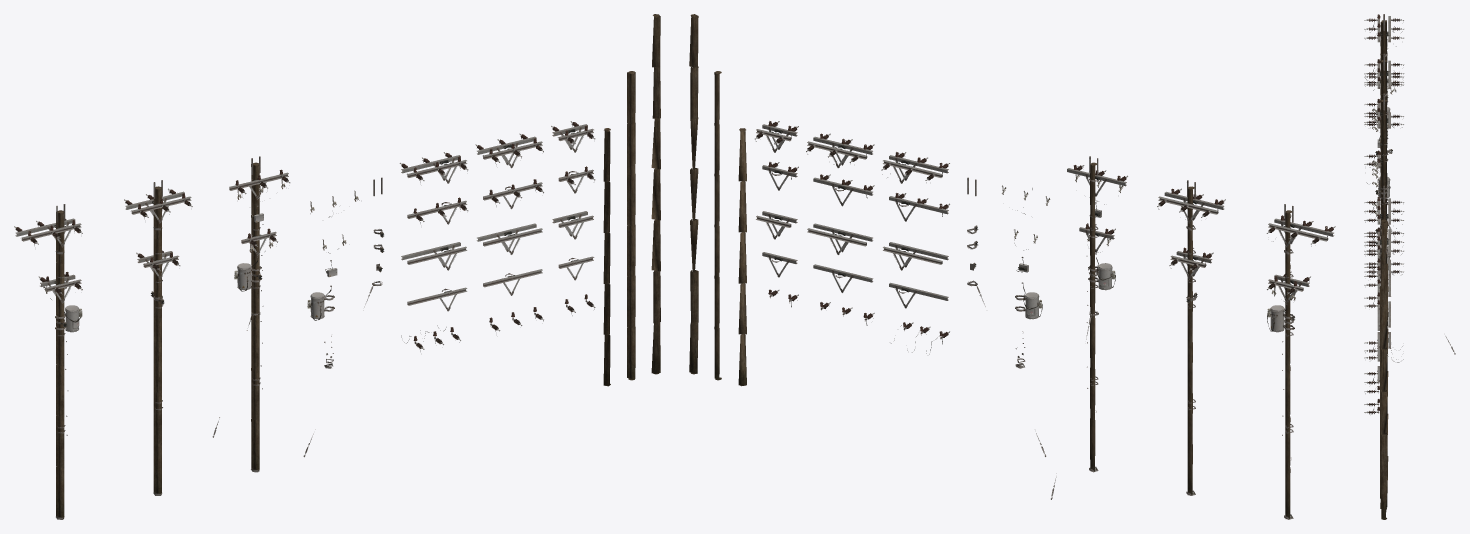
Rendered from modular_electricity_poles.glb.
3 renders of one model, left to right at view 1: azimuth 30°, elevation 25°; view 2: azimuth 150°, elevation 25°; view 3: azimuth 270°, elevation 25°, orthographic. The views are drawn at different scales.
Visible parts, largest first — view 1: pole_large, pole, preset_03_pole, preset_02_pole, preset_01_pole, pole_small, connection_large_01, connection_large_offset_01, preset_02_connection_large_01, preset_03_connection_large_offset_01, support_large_offset_01, support_large_01; view 2: pole_large, pole_small, pole, preset_01_pole, preset_02_pole, preset_03_pole, connection_large_01, connection_large_offset_01, preset_02_connection_large_01, preset_03_connection_large_offset_01, support_large_01, support_large_offset_01; view 3: pole_large, preset_01_pole, pole, preset_03_connection_large_offset_01, preset_02_connection_large_01, connection_large_offset_01, connection_large_01, pole_small, preset_03_pole, connection_small_01, preset_02_pole, preset_02_connection_small_01 (+8 smaller).
Boxes of the visible parts, x1,y1,x2,y2 form: pole_large: (651, 14, 660, 374); pole: (627, 71, 635, 380); preset_03_pole: (56, 210, 64, 519); preset_02_pole: (153, 186, 161, 495); preset_01_pole: (251, 162, 259, 471); pole_small: (603, 128, 610, 386); connection_large_01: (475, 133, 543, 168); connection_large_offset_01: (399, 152, 468, 183); preset_02_connection_large_01: (124, 188, 192, 223); preset_03_connection_large_offset_01: (14, 218, 82, 247); support_large_offset_01: (401, 242, 467, 270); support_large_01: (476, 223, 542, 254); pole_large: (689, 14, 698, 374); pole_small: (738, 128, 746, 386); pole: (714, 71, 721, 380); preset_01_pole: (1090, 162, 1097, 471); preset_02_pole: (1187, 186, 1194, 495); preset_03_pole: (1285, 210, 1292, 519); connection_large_01: (806, 133, 874, 168); connection_large_offset_01: (881, 152, 949, 183); preset_02_connection_large_01: (1157, 188, 1225, 223); preset_03_connection_large_offset_01: (1266, 215, 1335, 246); support_large_01: (807, 223, 873, 254); support_large_offset_01: (883, 242, 948, 270); pole_large: (1381, 219, 1387, 519); preset_01_pole: (1380, 99, 1387, 239); pole: (1380, 252, 1387, 509); preset_03_connection_large_offset_01: (1364, 14, 1403, 49); preset_02_connection_large_01: (1364, 59, 1404, 88); connection_large_offset_01: (1364, 196, 1404, 231); connection_large_01: (1364, 227, 1403, 257); pole_small: (1380, 286, 1388, 498); preset_03_pole: (1380, 20, 1387, 148); connection_small_01: (1364, 258, 1403, 279); preset_02_pole: (1380, 60, 1387, 229); preset_02_connection_small_01: (1364, 112, 1403, 135).
Bounding box in the file's own units: 13.12 × 7 × 1.95.
2 materials, 2 textured.
